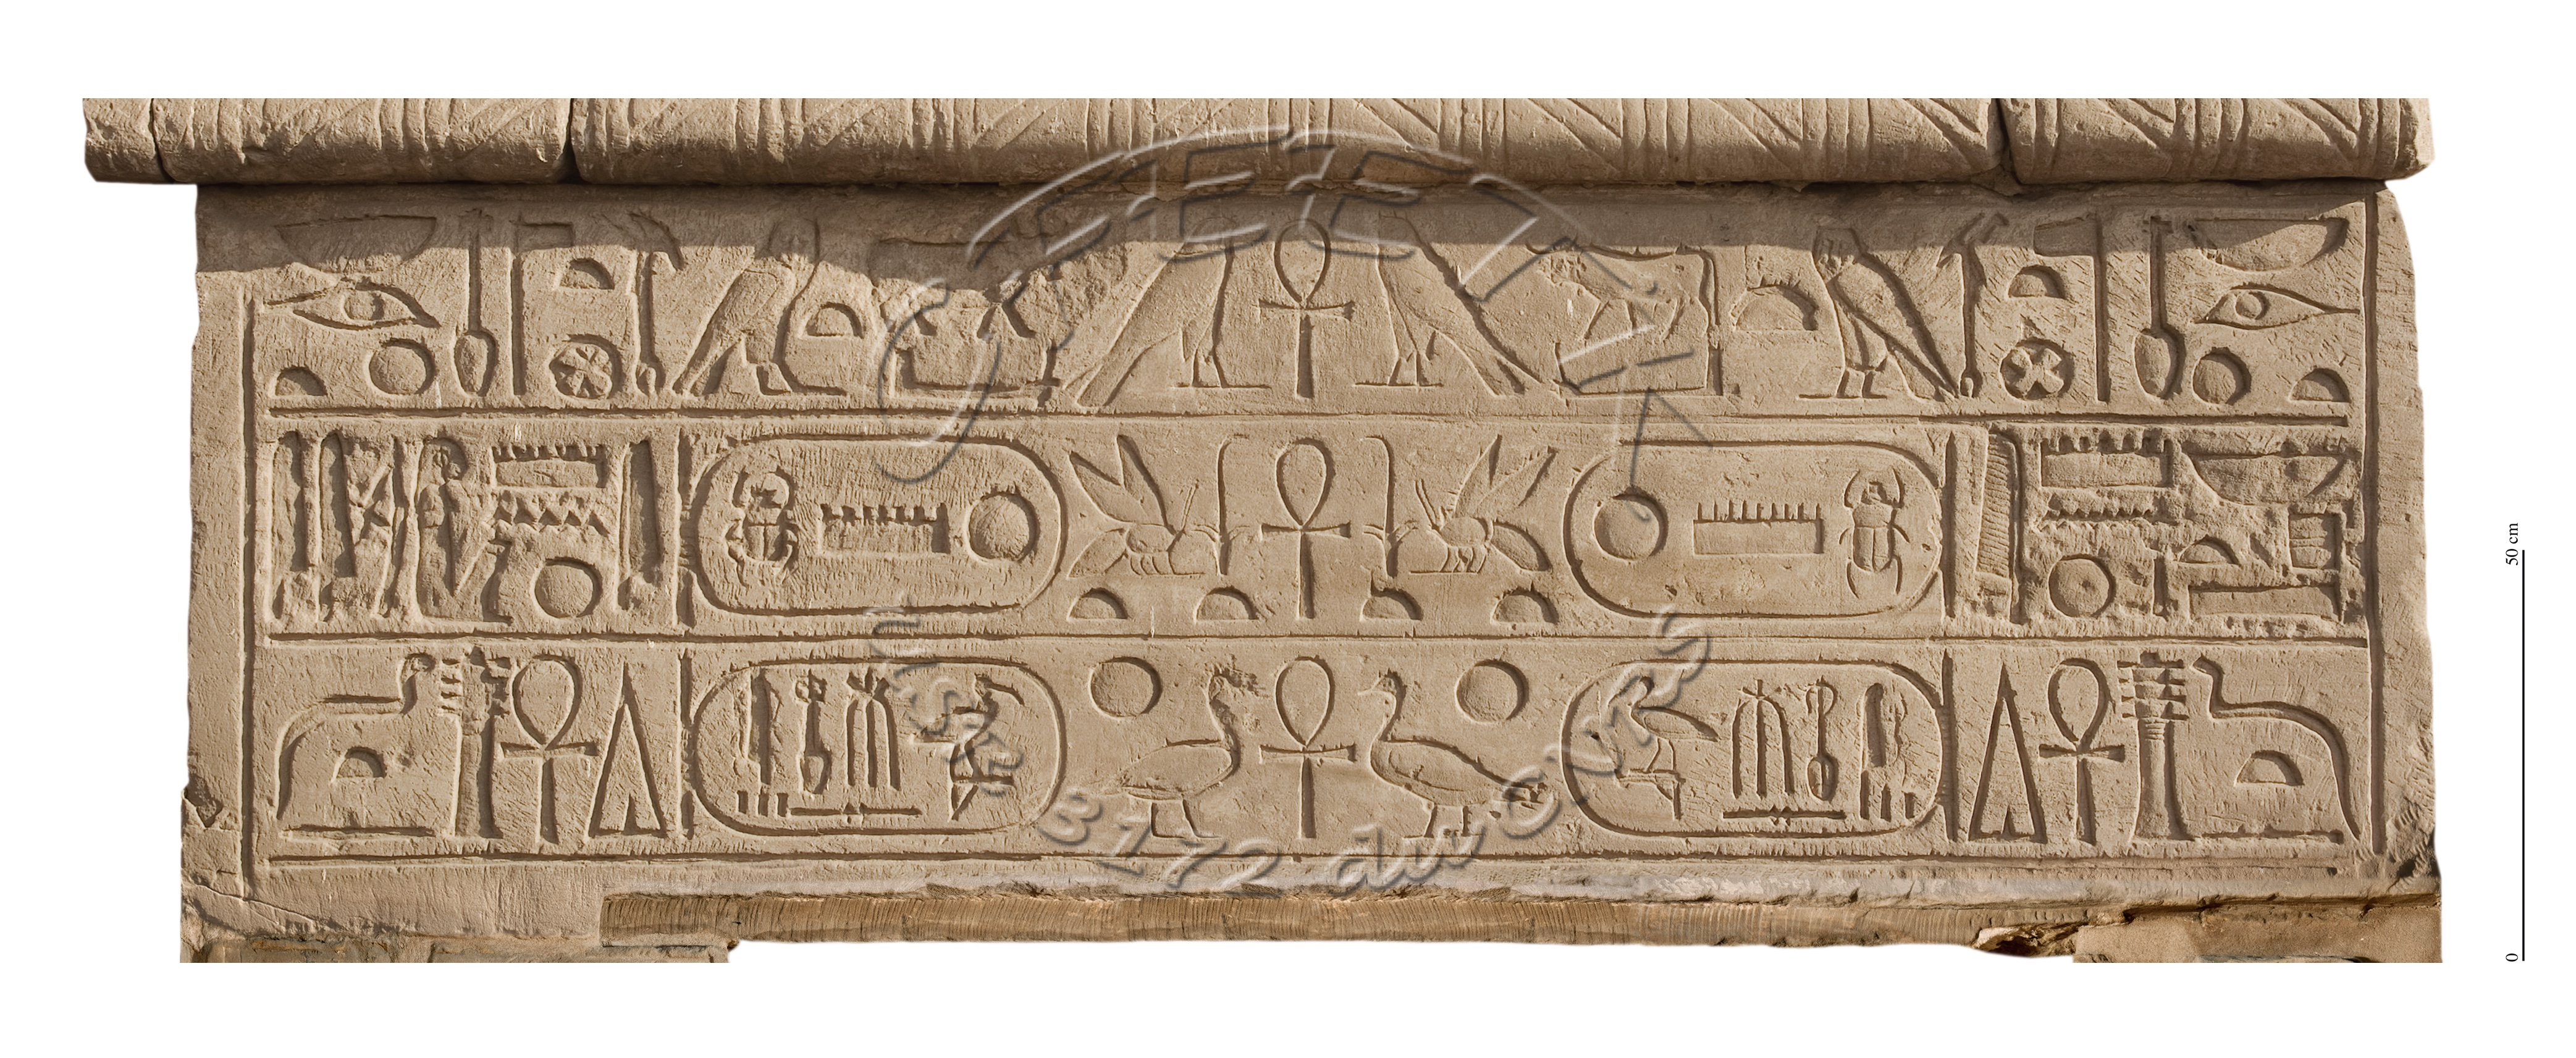D4: (243, 271, 444, 338), (2196, 274, 2364, 335)
F35: (2121, 212, 2192, 402), (442, 204, 503, 401), (1791, 675, 1853, 805), (787, 667, 841, 797)
G17: (678, 204, 846, 406), (1792, 223, 1960, 414)
I10: (2165, 654, 2369, 851), (256, 649, 444, 823)
M17: (245, 422, 317, 632), (306, 425, 381, 626), (1968, 429, 2037, 647), (1843, 670, 1897, 820), (739, 667, 780, 789)
N35: (478, 491, 614, 560), (2021, 496, 2185, 547)
V30: (2170, 427, 2364, 521), (266, 207, 442, 283), (2173, 202, 2354, 273)
X8: (1953, 660, 2068, 853), (582, 654, 672, 849)
